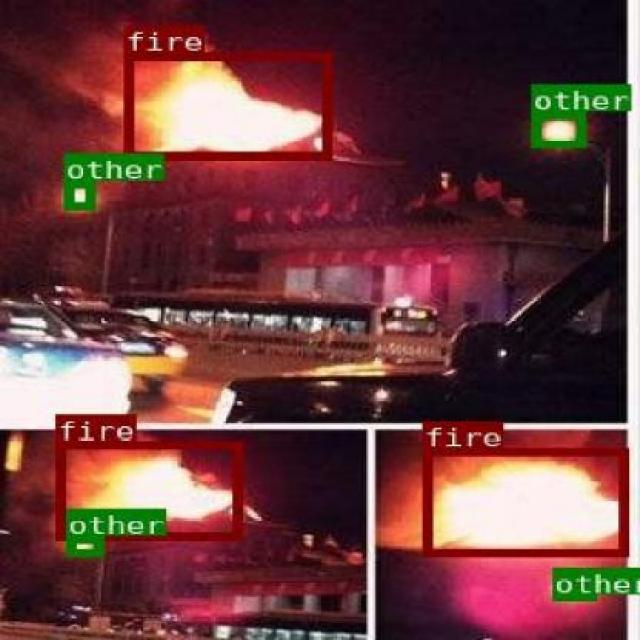Fire: (122, 51, 330, 158), (422, 447, 626, 555), (55, 439, 239, 538)
